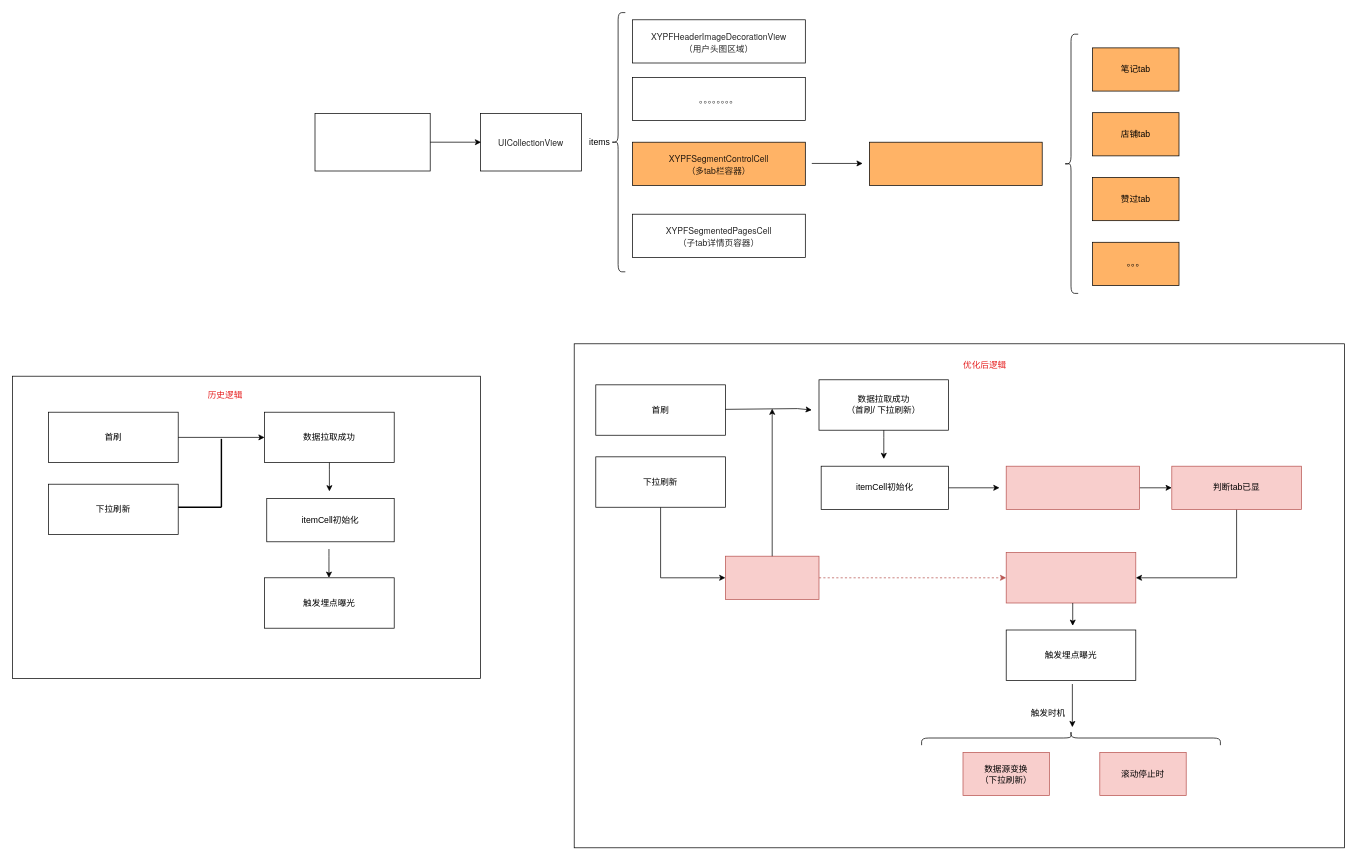
This 1357x860 diagram has some shape labels left out. Here are the shapes that lost their labels. From the top down, the centre of each, then its label:
At [372,142]: "XYPFProfileViewController （个人页 / 他人页）".
At [955,163]: "HulaDSLTabView （ 真实UI承载： UIScrollView ）".
At [1072,487]: "监听曝光事件 HulaDSLTabView".
At [772,577]: "重置去重标记".
At [1070,577]: "根据tabid去重后回调".
